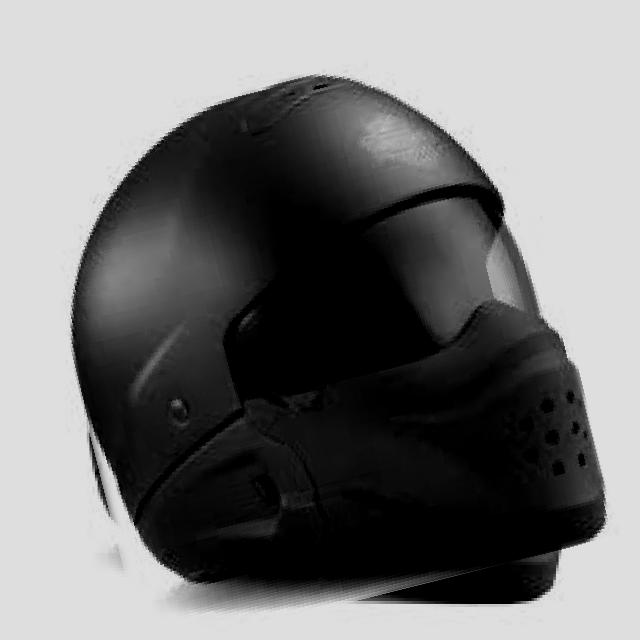helmet: (46, 52, 592, 628)
